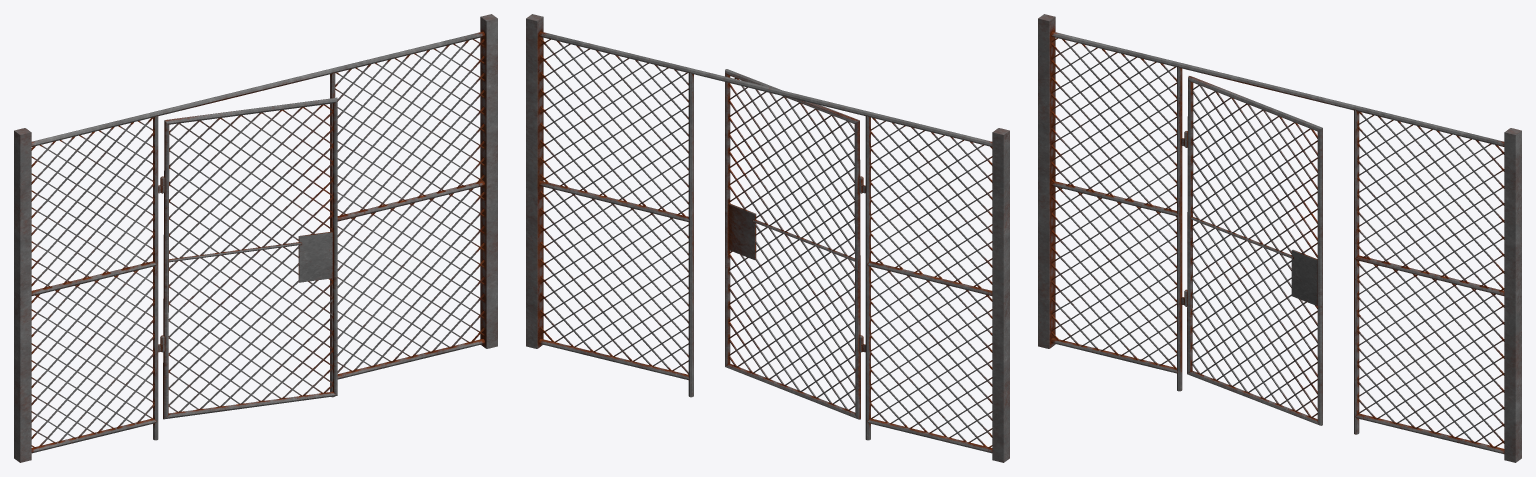
Rendered from low-poly-fence.fbx.
3 views of the same model, side by side, from view 1: azimuth 30°, elevation 25°; view 2: azimuth 150°, elevation 25°; view 3: azimuth 330°, elevation 25° (orthographic).
Parts seen in each view (by area): view 1: Plane.009_ExtrutureFence_0, Cylinder.010_Fencegate_0, Cube_BaseFence_0; view 2: Plane.009_ExtrutureFence_0, Cylinder.010_Fencegate_0, Cube_BaseFence_0; view 3: Plane.009_ExtrutureFence_0, Cylinder.010_Fencegate_0, Cube_BaseFence_0.
Part boxes in pixels (<box>): Plane.009_ExtrutureFence_0: <box>31,31,484,453</box>; Cylinder.010_Fencegate_0: <box>160,97,337,419</box>; Cube_BaseFence_0: <box>14,14,497,462</box>; Plane.009_ExtrutureFence_0: <box>539,31,992,453</box>; Cylinder.010_Fencegate_0: <box>725,69,863,419</box>; Cube_BaseFence_0: <box>526,14,1009,462</box>; Plane.009_ExtrutureFence_0: <box>1051,31,1504,453</box>; Cylinder.010_Fencegate_0: <box>1184,76,1322,425</box>; Cube_BaseFence_0: <box>1038,14,1521,462</box>.
Bounding box in the file's own units: 489 × 333 × 42.58.
